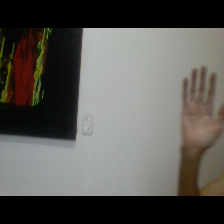left: (170, 63, 224, 156)
